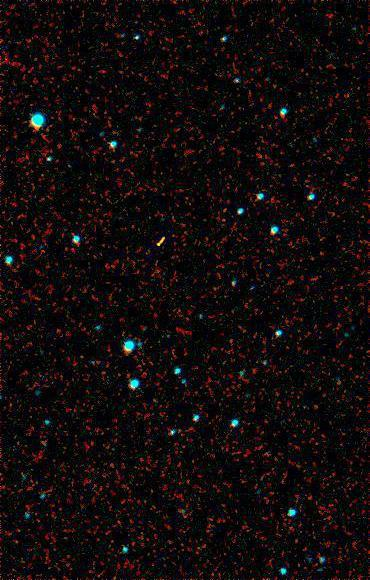star: (145, 225, 175, 255)
